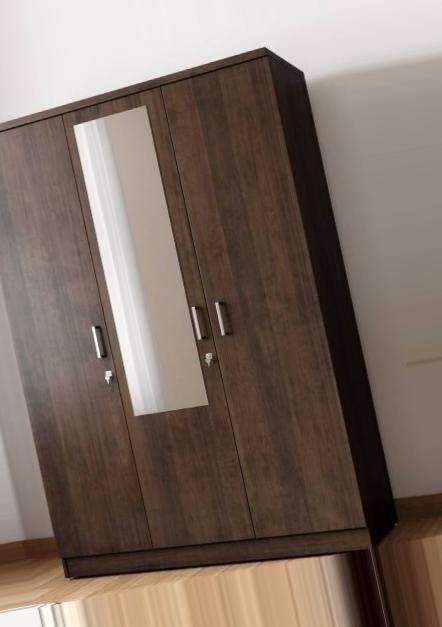Armario: (4, 49, 400, 573)
